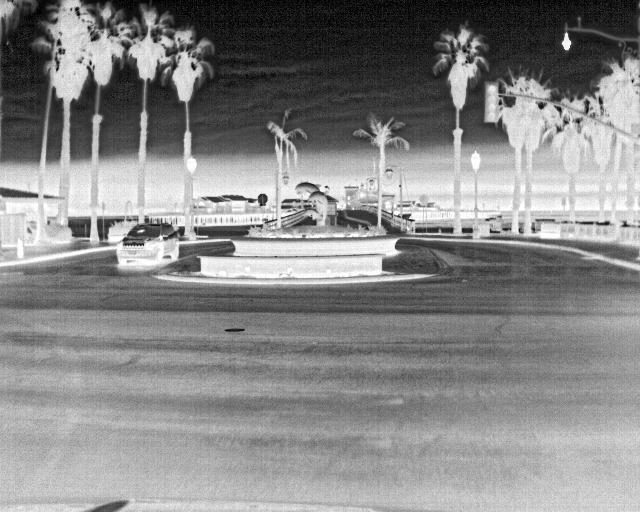car: (115, 221, 182, 266)
